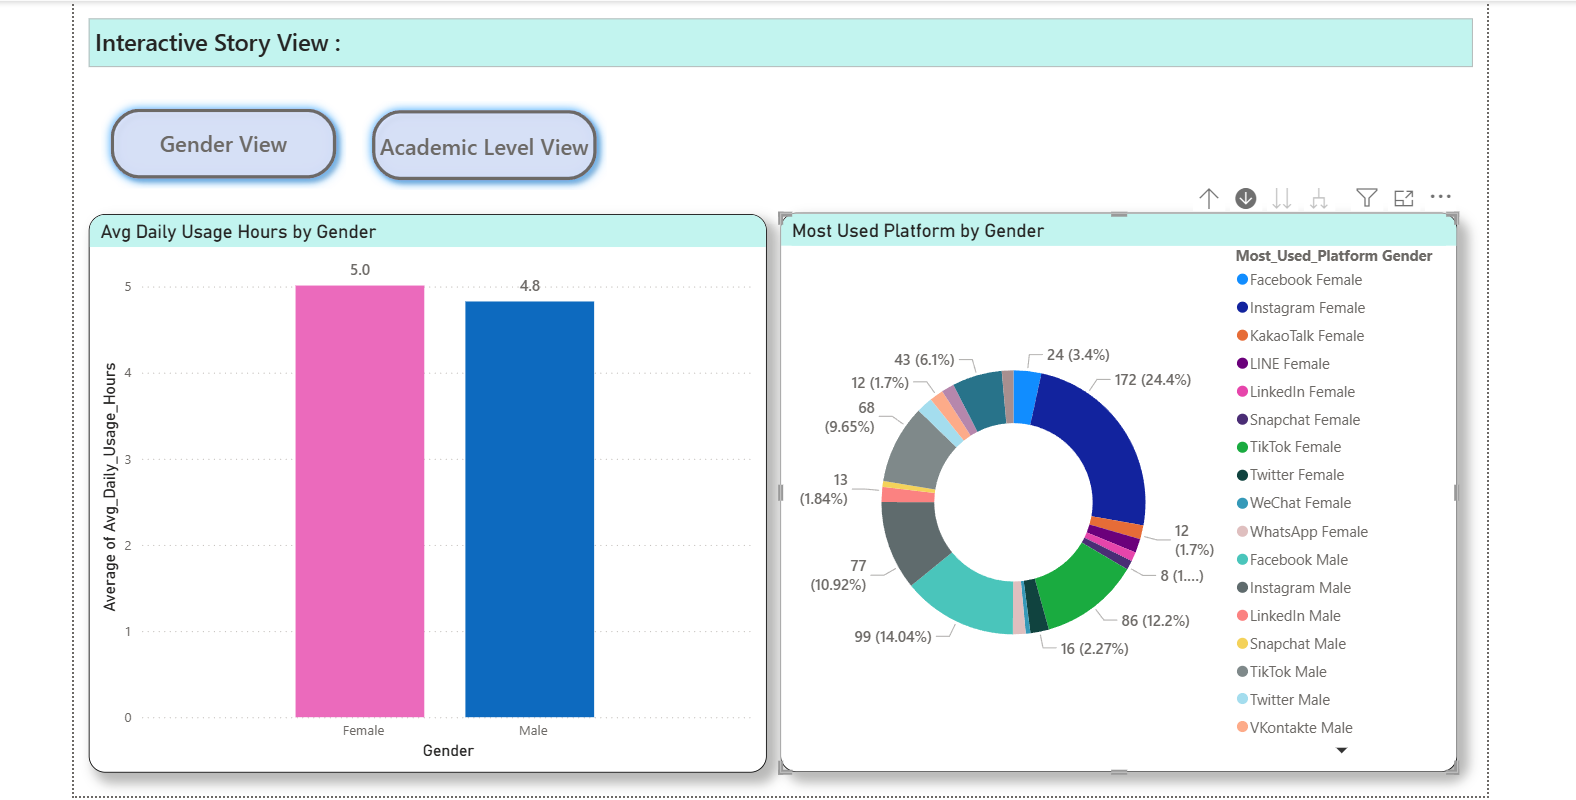

What the dashboard file says about the page in this screenshot:
{"tool":"powerbi","page":{"name":"Interactive Story View","canvas":[1280,720],"ordinal":4},"visuals":[{"type":"textbox","box":[13.3,15.9,1253.9,43.7],"z":0},{"type":"columnChart","title":" Avg Daily Usage Hours by Gender","fields":{"Category":["Student Details.Gender"],"Y":["Avg(Platform Details.Avg_Daily_Usage_Hours)"]},"box":[12.9,192.9,614.3,505.7],"z":1000},{"type":"actionButton","box":[24,89.2,222.2,81.2],"z":3000},{"type":"actionButton","box":[261.4,90,221.4,81.4],"z":4000},{"type":"donutChart","title":" Most Used Platform by Gender","fields":{"Category":["Platform Details.Most_Used_Platform","Student Details.Gender"],"Y":["CountNonNull(Student Details.Student_ID)"]},"box":[640.2,192.2,613.7,506.3],"z":5000}]}

Visuals, with their boxes on the page's 1280x720 design canvas (x1, y1, x2, y2). These are canvas units, not pixel positions in the 1576x800 screenshot, which may show the page scaled, cropped or inside an application window:
textbox: 13/16/1267/60
" Avg Daily Usage Hours by Gender" columnChart: 13/193/627/699
actionButton: 24/89/246/170
actionButton: 261/90/483/171
" Most Used Platform by Gender" donutChart: 640/192/1254/698
